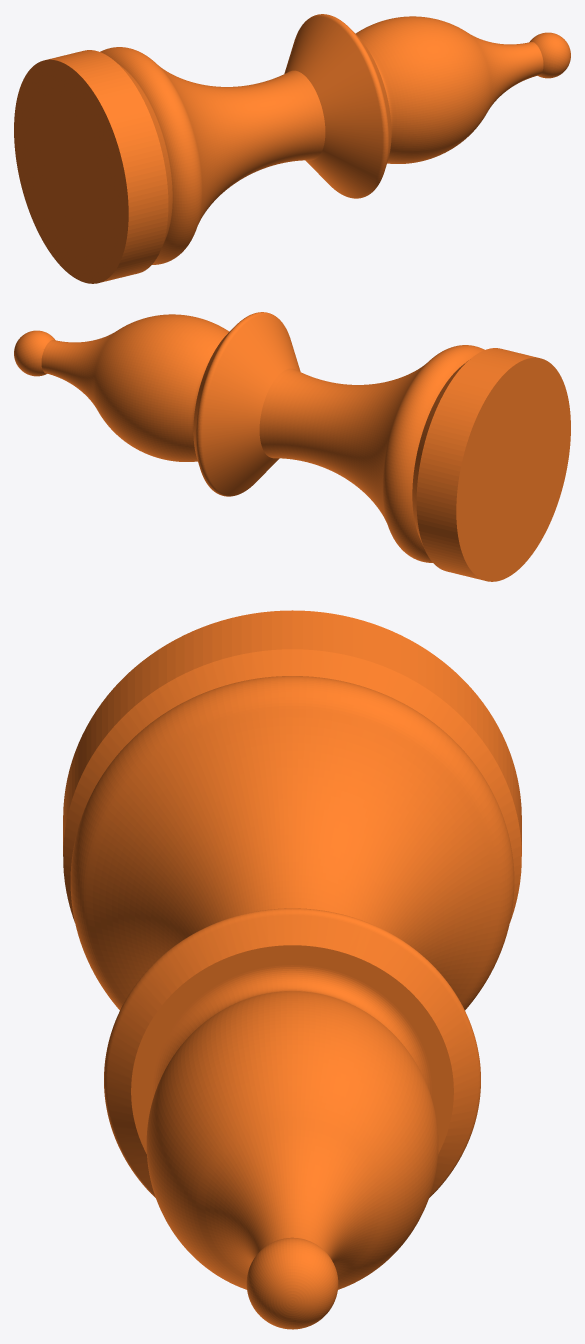
3 renders of one model, top to bottom at view 1: azimuth 30°, elevation 25°; view 2: azimuth 150°, elevation 25°; view 3: azimuth 270°, elevation 25°, orthographic. The views are drawn at different scales.
Visible parts, largest first — view 1: node_id5; view 2: node_id5; view 3: node_id5.
Part boxes in pixels (left/top/right/bottom): node_id5: left=14, top=14, right=570, bottom=283; node_id5: left=14, top=312, right=570, bottom=581; node_id5: left=63, top=610, right=521, bottom=1329.
Bounding box in the file's own units: 64 × 25.6 × 25.6.
1 material, 1 textured.
